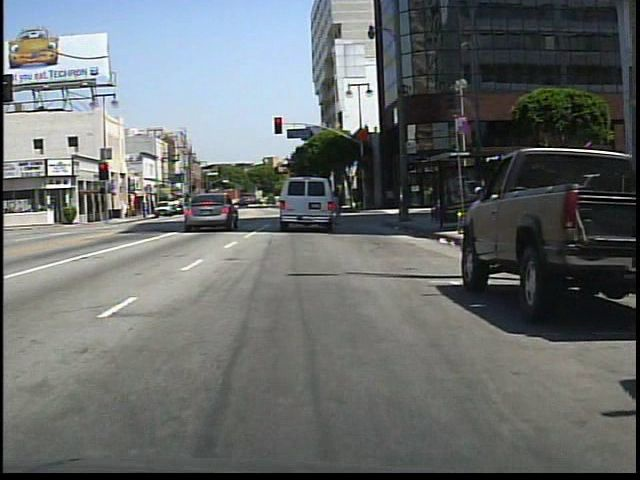person: (324, 182, 346, 225), (206, 193, 221, 218)
